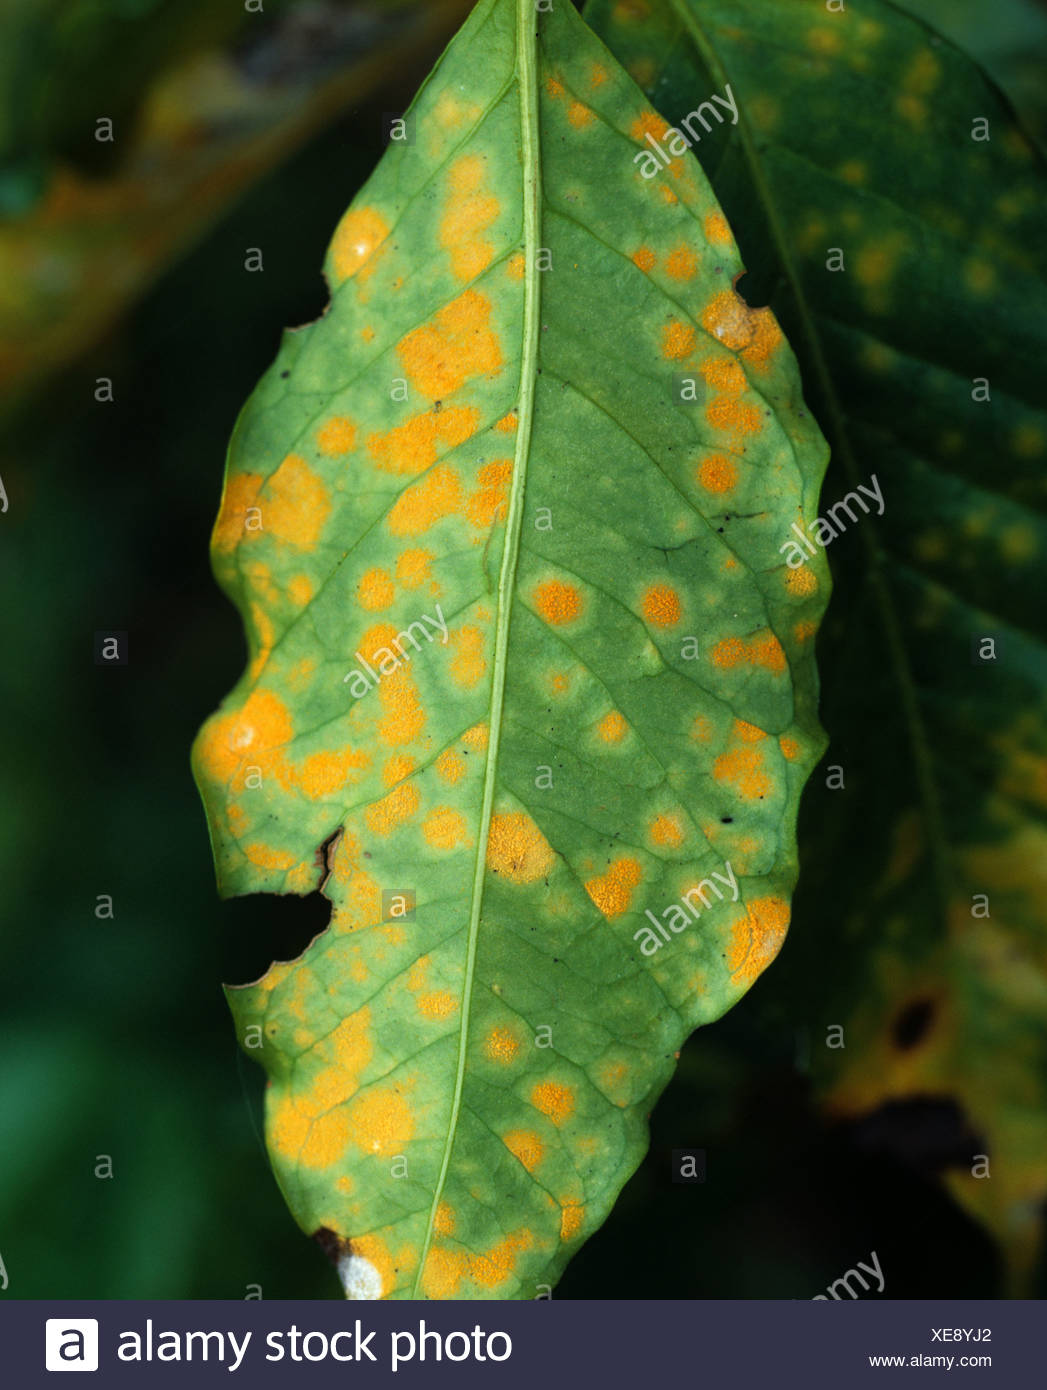roya: (282, 143, 714, 1279)
